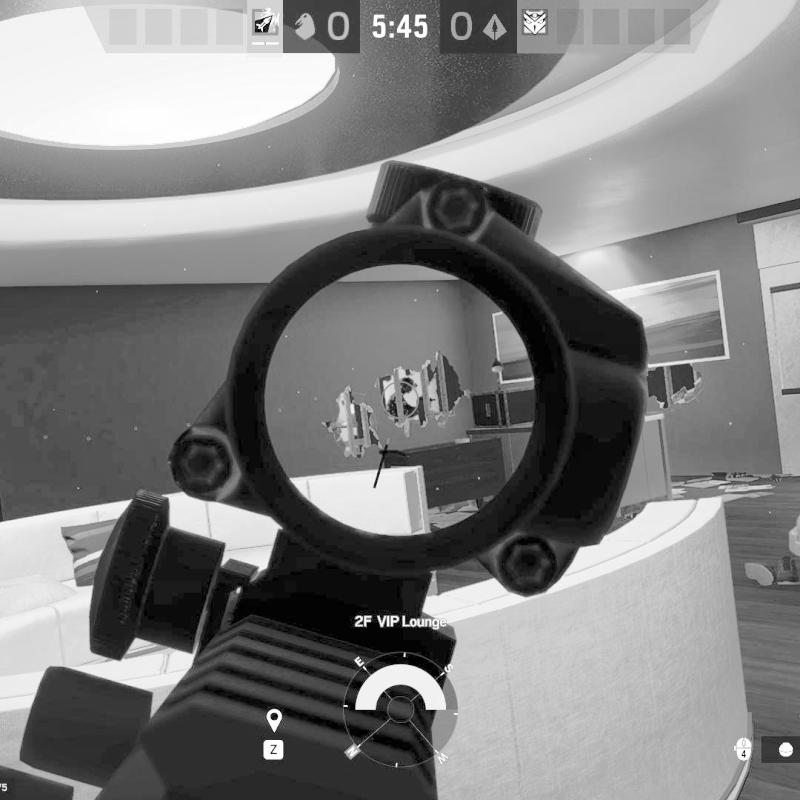Character: (382, 376, 430, 419)
Head: (398, 378, 418, 394)
